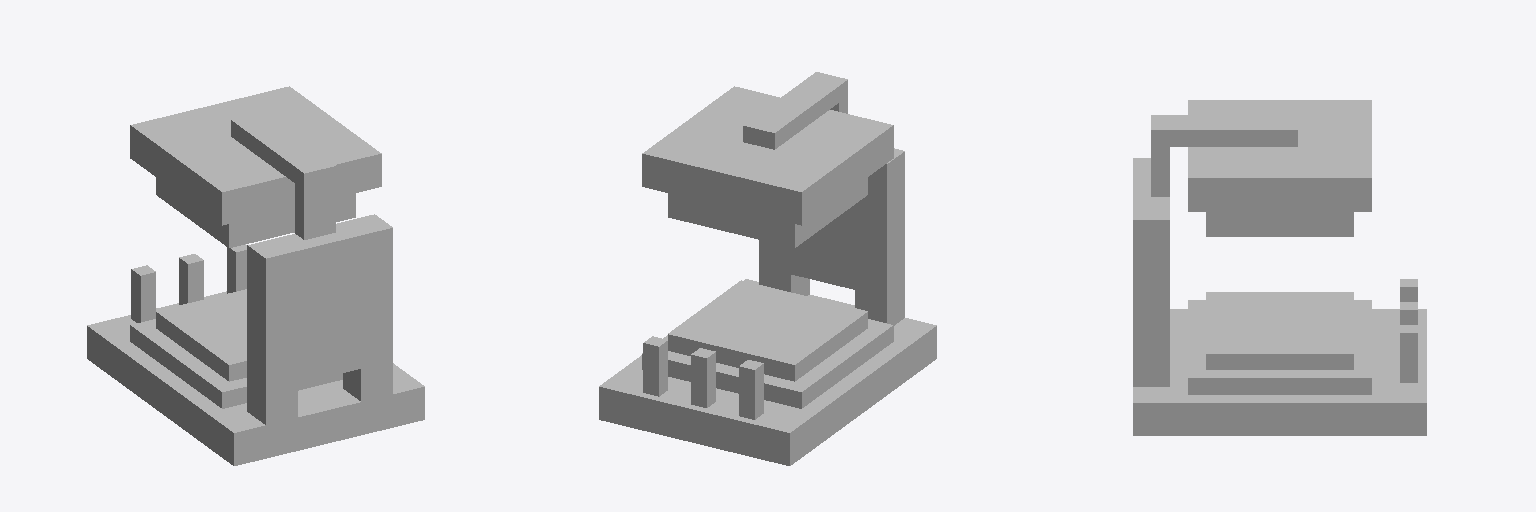
Rendered from charging_station.obj.
3 renders of one model, left to right at view 1: azimuth 30°, elevation 25°; view 2: azimuth 150°, elevation 25°; view 3: azimuth 270°, elevation 25°, orthographic.
Parts seen in each view (by area): view 1: base; view 2: base; view 3: base.
Part boxes in pixels (x1,y1,x2,y2): base: (87,86,424,465); base: (599,72,936,465); base: (1133,100,1426,435).
Size of the model in its own units: 0.75 by 1 by 1.